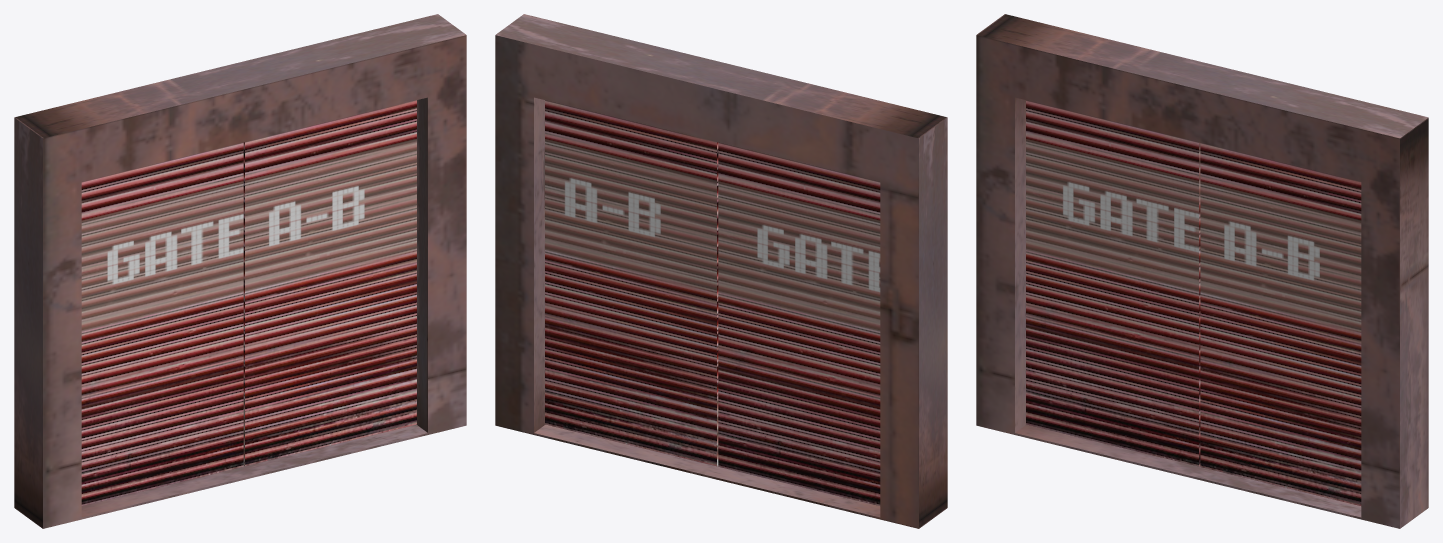
File: GateChecpoint.fbx
The picture shows the model from 3 angles, left to right: view 1: azimuth 30°, elevation 25°; view 2: azimuth 150°, elevation 25°; view 3: azimuth 330°, elevation 25°; orthographic projection.
Parts seen in each view (by area): view 1: Cube, Cube.001, Cube.002; view 2: Cube, Cube.001, Cube.002; view 3: Cube, Cube.002, Cube.001.
Boxes of the visible parts, left/top/right/bottom form: Cube: left=14, top=14, right=466, bottom=528; Cube.001: left=243, top=100, right=416, bottom=466; Cube.002: left=81, top=142, right=243, bottom=505; Cube: left=495, top=14, right=947, bottom=528; Cube.001: left=545, top=100, right=718, bottom=466; Cube.002: left=718, top=142, right=880, bottom=505; Cube: left=976, top=14, right=1428, bottom=528; Cube.002: left=1026, top=100, right=1200, bottom=466; Cube.001: left=1200, top=142, right=1361, bottom=505.
Size of the model in its own units: 758 by 667 by 89.34.
